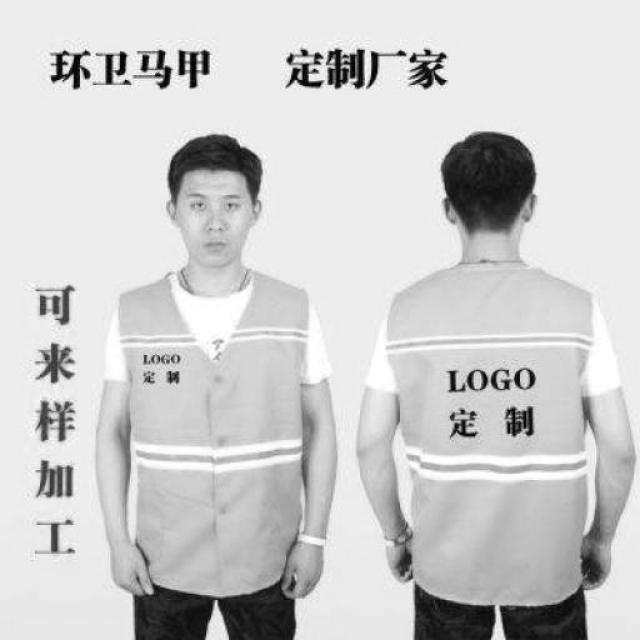face_nomask: (181, 188, 250, 261)
hand_noglove: (100, 541, 160, 601), (273, 542, 327, 602), (381, 530, 429, 588), (570, 537, 614, 594)
head_nohelmet: (434, 121, 541, 214), (163, 126, 271, 186)
person: (349, 119, 640, 640), (82, 120, 350, 640)
vest: (384, 258, 600, 612), (120, 274, 312, 594)
